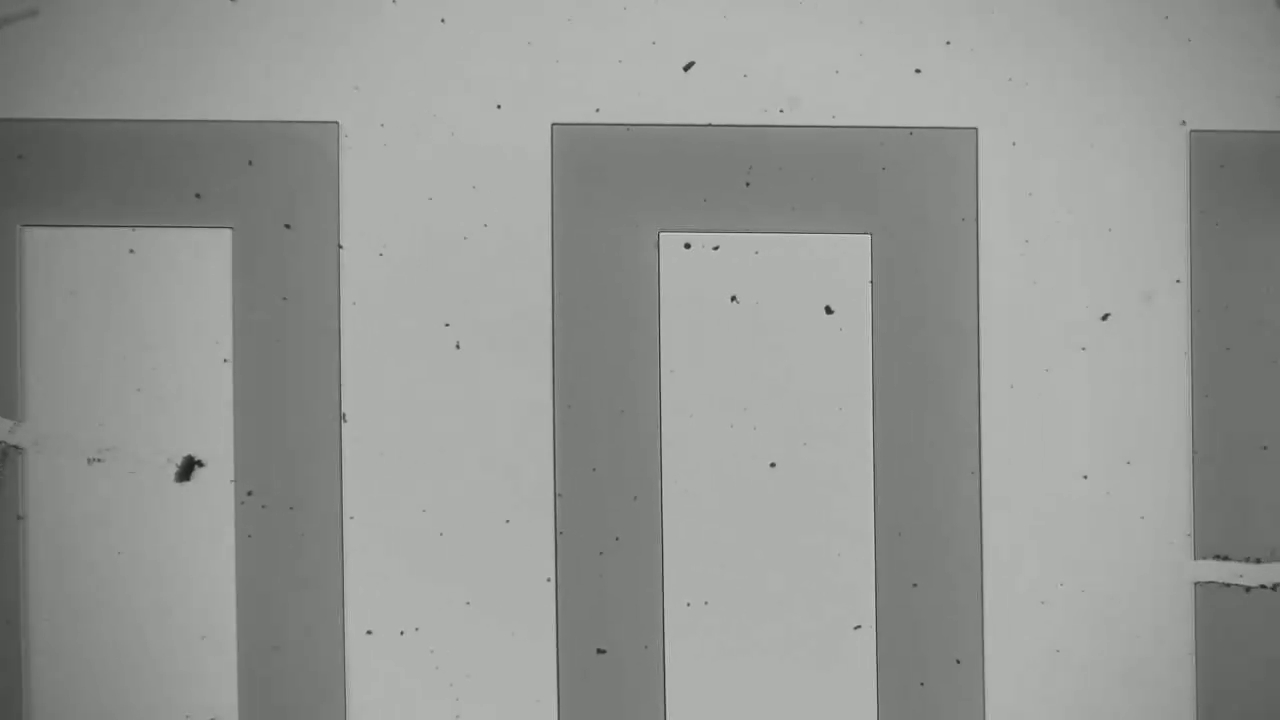Short_circuit: (1165, 535, 1280, 611), (1, 405, 40, 464)
